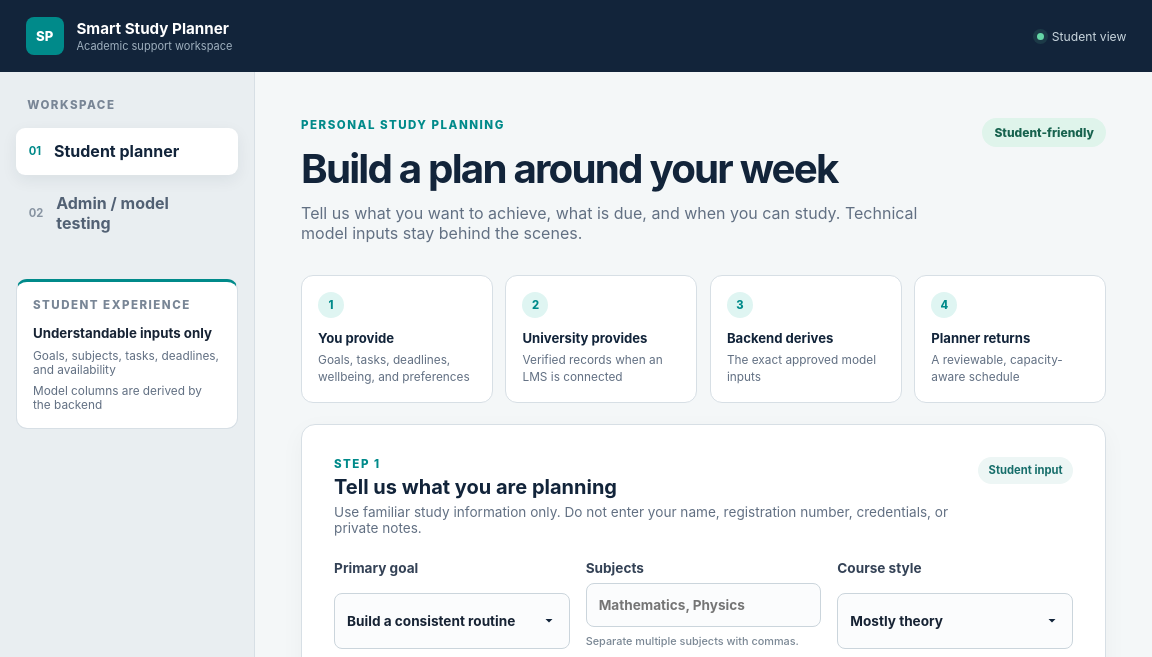
it: shows every model allowlisted by the API catalog
Expected: the heading "Build a plan around your week" is shown, [301,144,838,193]
Click the button "02 Admin / model testing".
click(127, 213)  # box [16,180,238,247]
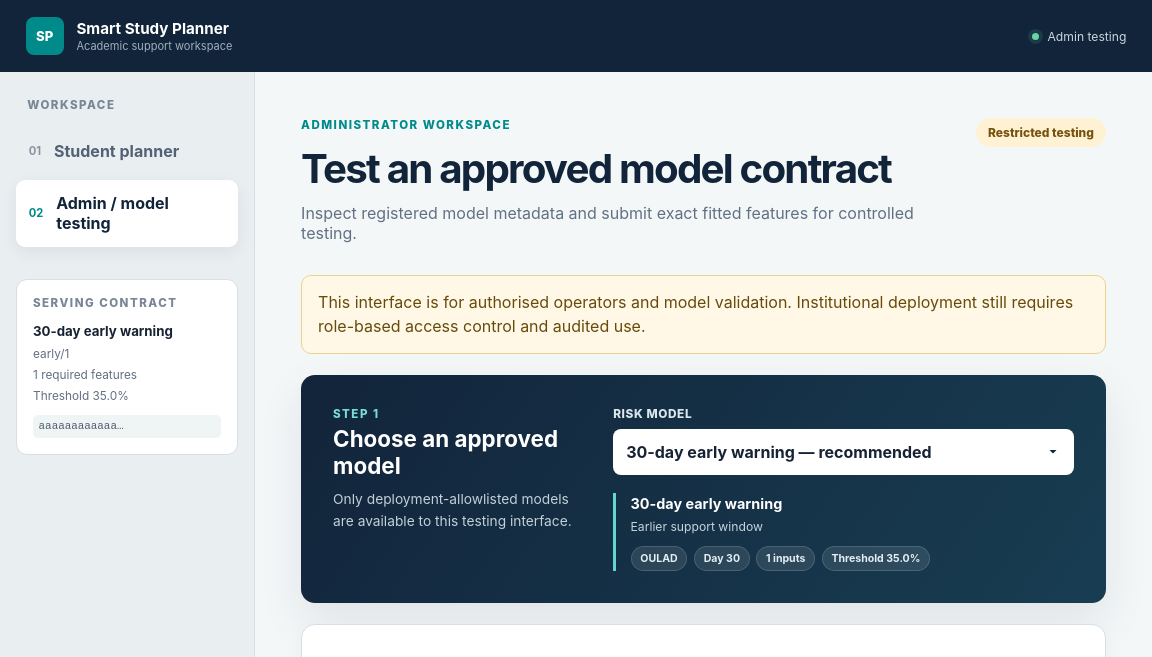
Now the dropdown labelled "Risk model" shows "30-day early warning — recommended", box [613,429,1074,475]
